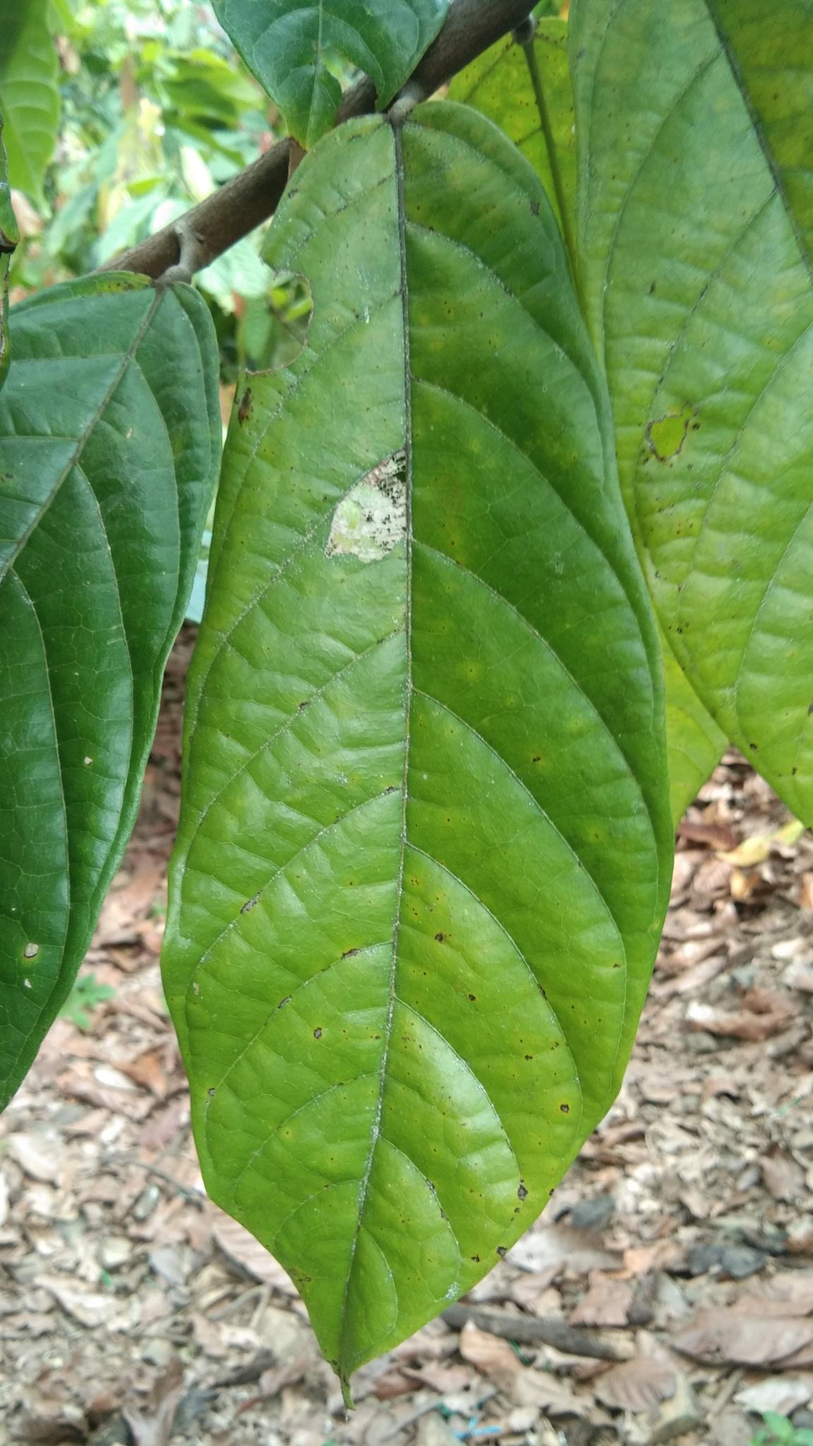Fosforo: (191, 101, 702, 1314)
